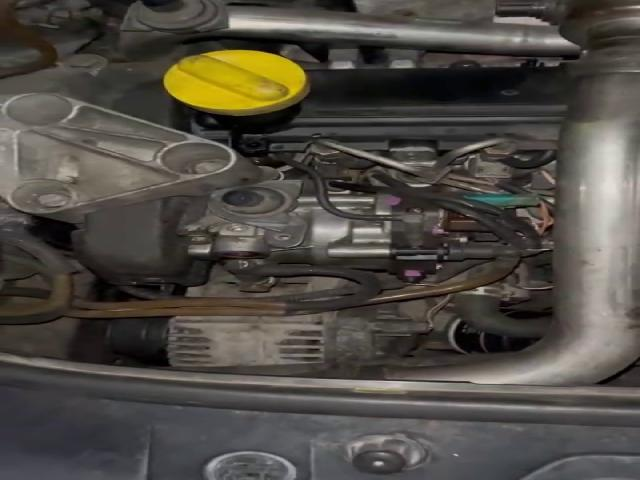alternator: (166, 314, 325, 366)
high_pressure_pump: (183, 180, 444, 282)
